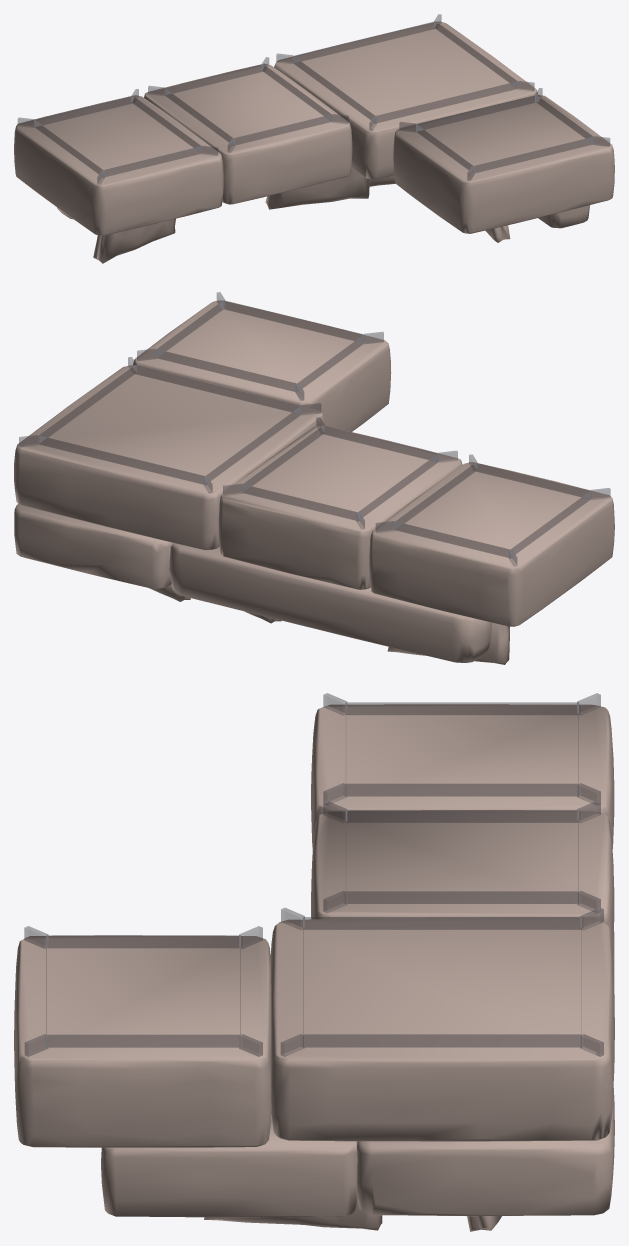
The model's file is Sofa1.glb.
The picture shows the model from 3 angles, top to bottom: view 1: azimuth 30°, elevation 25°; view 2: azimuth 150°, elevation 25°; view 3: azimuth 270°, elevation 25°; orthographic projection. The views are drawn at different scales.
Visible parts, largest first — view 1: Furniture_Sofas-Armchairs_Fritz-Hansen_Alphabet-SofaT-Series; view 2: Furniture_Sofas-Armchairs_Fritz-Hansen_Alphabet-SofaT-Series; view 3: Furniture_Sofas-Armchairs_Fritz-Hansen_Alphabet-SofaT-Series.
Boxes of the visible parts, x1,y1,x2,y2 form: Furniture_Sofas-Armchairs_Fritz-Hansen_Alphabet-SofaT-Series: [14, 14, 614, 263]; Furniture_Sofas-Armchairs_Fritz-Hansen_Alphabet-SofaT-Series: [14, 292, 614, 664]; Furniture_Sofas-Armchairs_Fritz-Hansen_Alphabet-SofaT-Series: [14, 693, 614, 1231].
Size of the model in its own units: 60.24 by 17.15 by 42.49.
